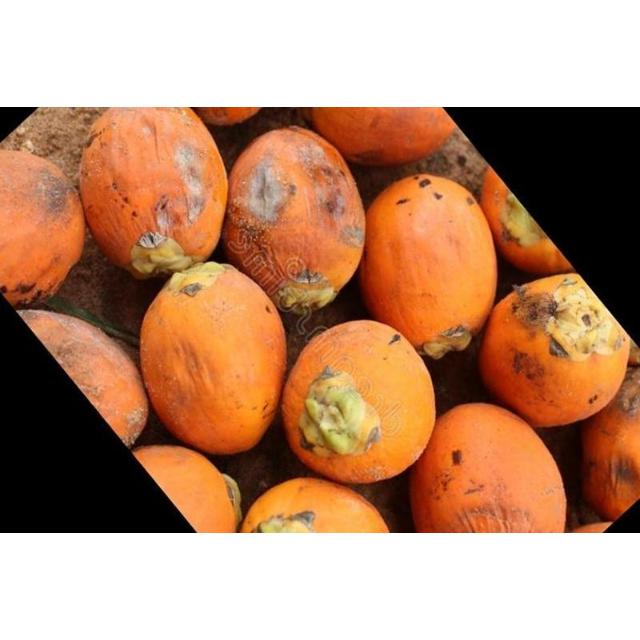good: (142, 264, 286, 452), (224, 128, 366, 316), (282, 322, 436, 488), (80, 108, 226, 280), (362, 177, 496, 357), (480, 276, 628, 428), (410, 404, 564, 532), (19, 310, 147, 448), (2, 150, 84, 308), (478, 164, 568, 274), (136, 445, 238, 533), (306, 108, 454, 168), (580, 368, 638, 520)
